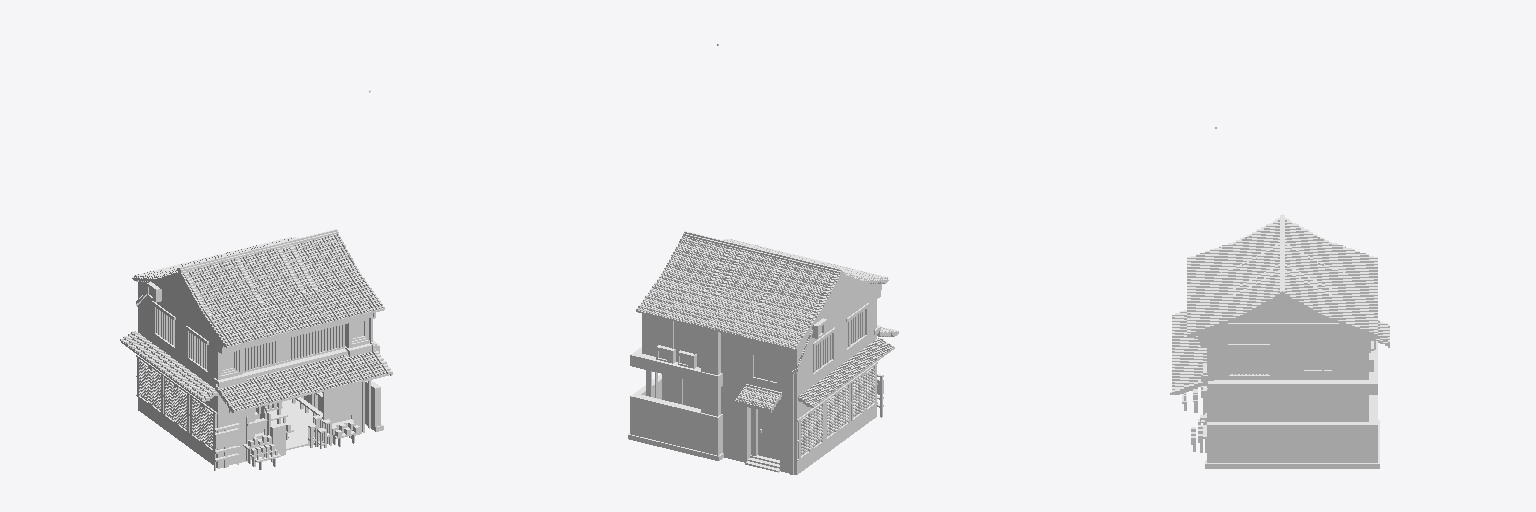
Rendered from GDS2_Shop.obj.
3 views of the same model, side by side, from view 1: azimuth 30°, elevation 25°; view 2: azimuth 150°, elevation 25°; view 3: azimuth 270°, elevation 25° (orthographic).
Visible parts, largest first — view 1: object 1; view 2: object 1; view 3: object 1.
Part boxes in pixels (bbox=[...]): object 1: bbox=[120, 90, 392, 470]; object 1: bbox=[628, 44, 898, 474]; object 1: bbox=[1170, 127, 1389, 468].
Bounding box in the file's own units: 11.9 × 21.3 × 12.6.